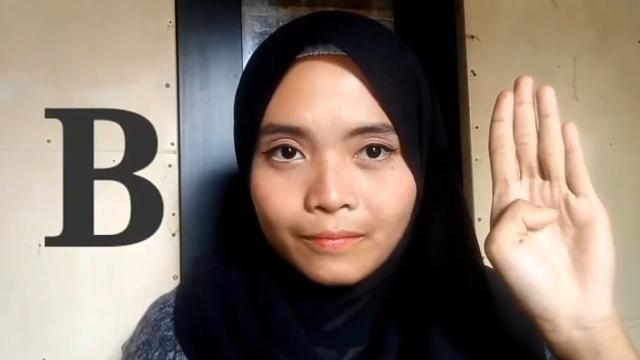B: (482, 74, 620, 334)
